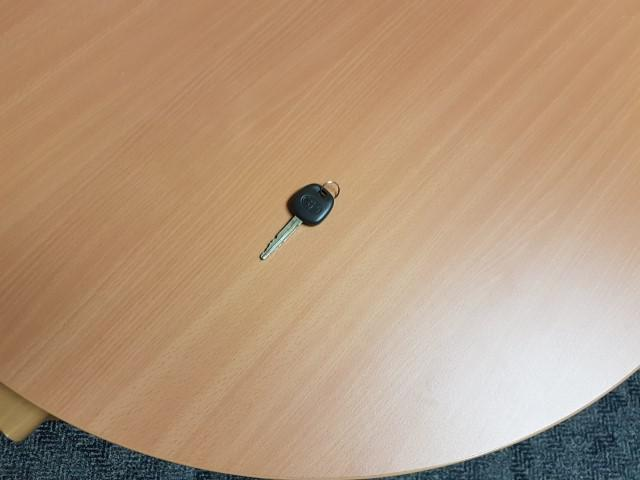key: (260, 184, 333, 259)
